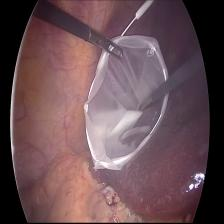Grasper: (87, 23, 125, 70), (133, 85, 156, 118)
Specimen Bag: (80, 4, 170, 176)
